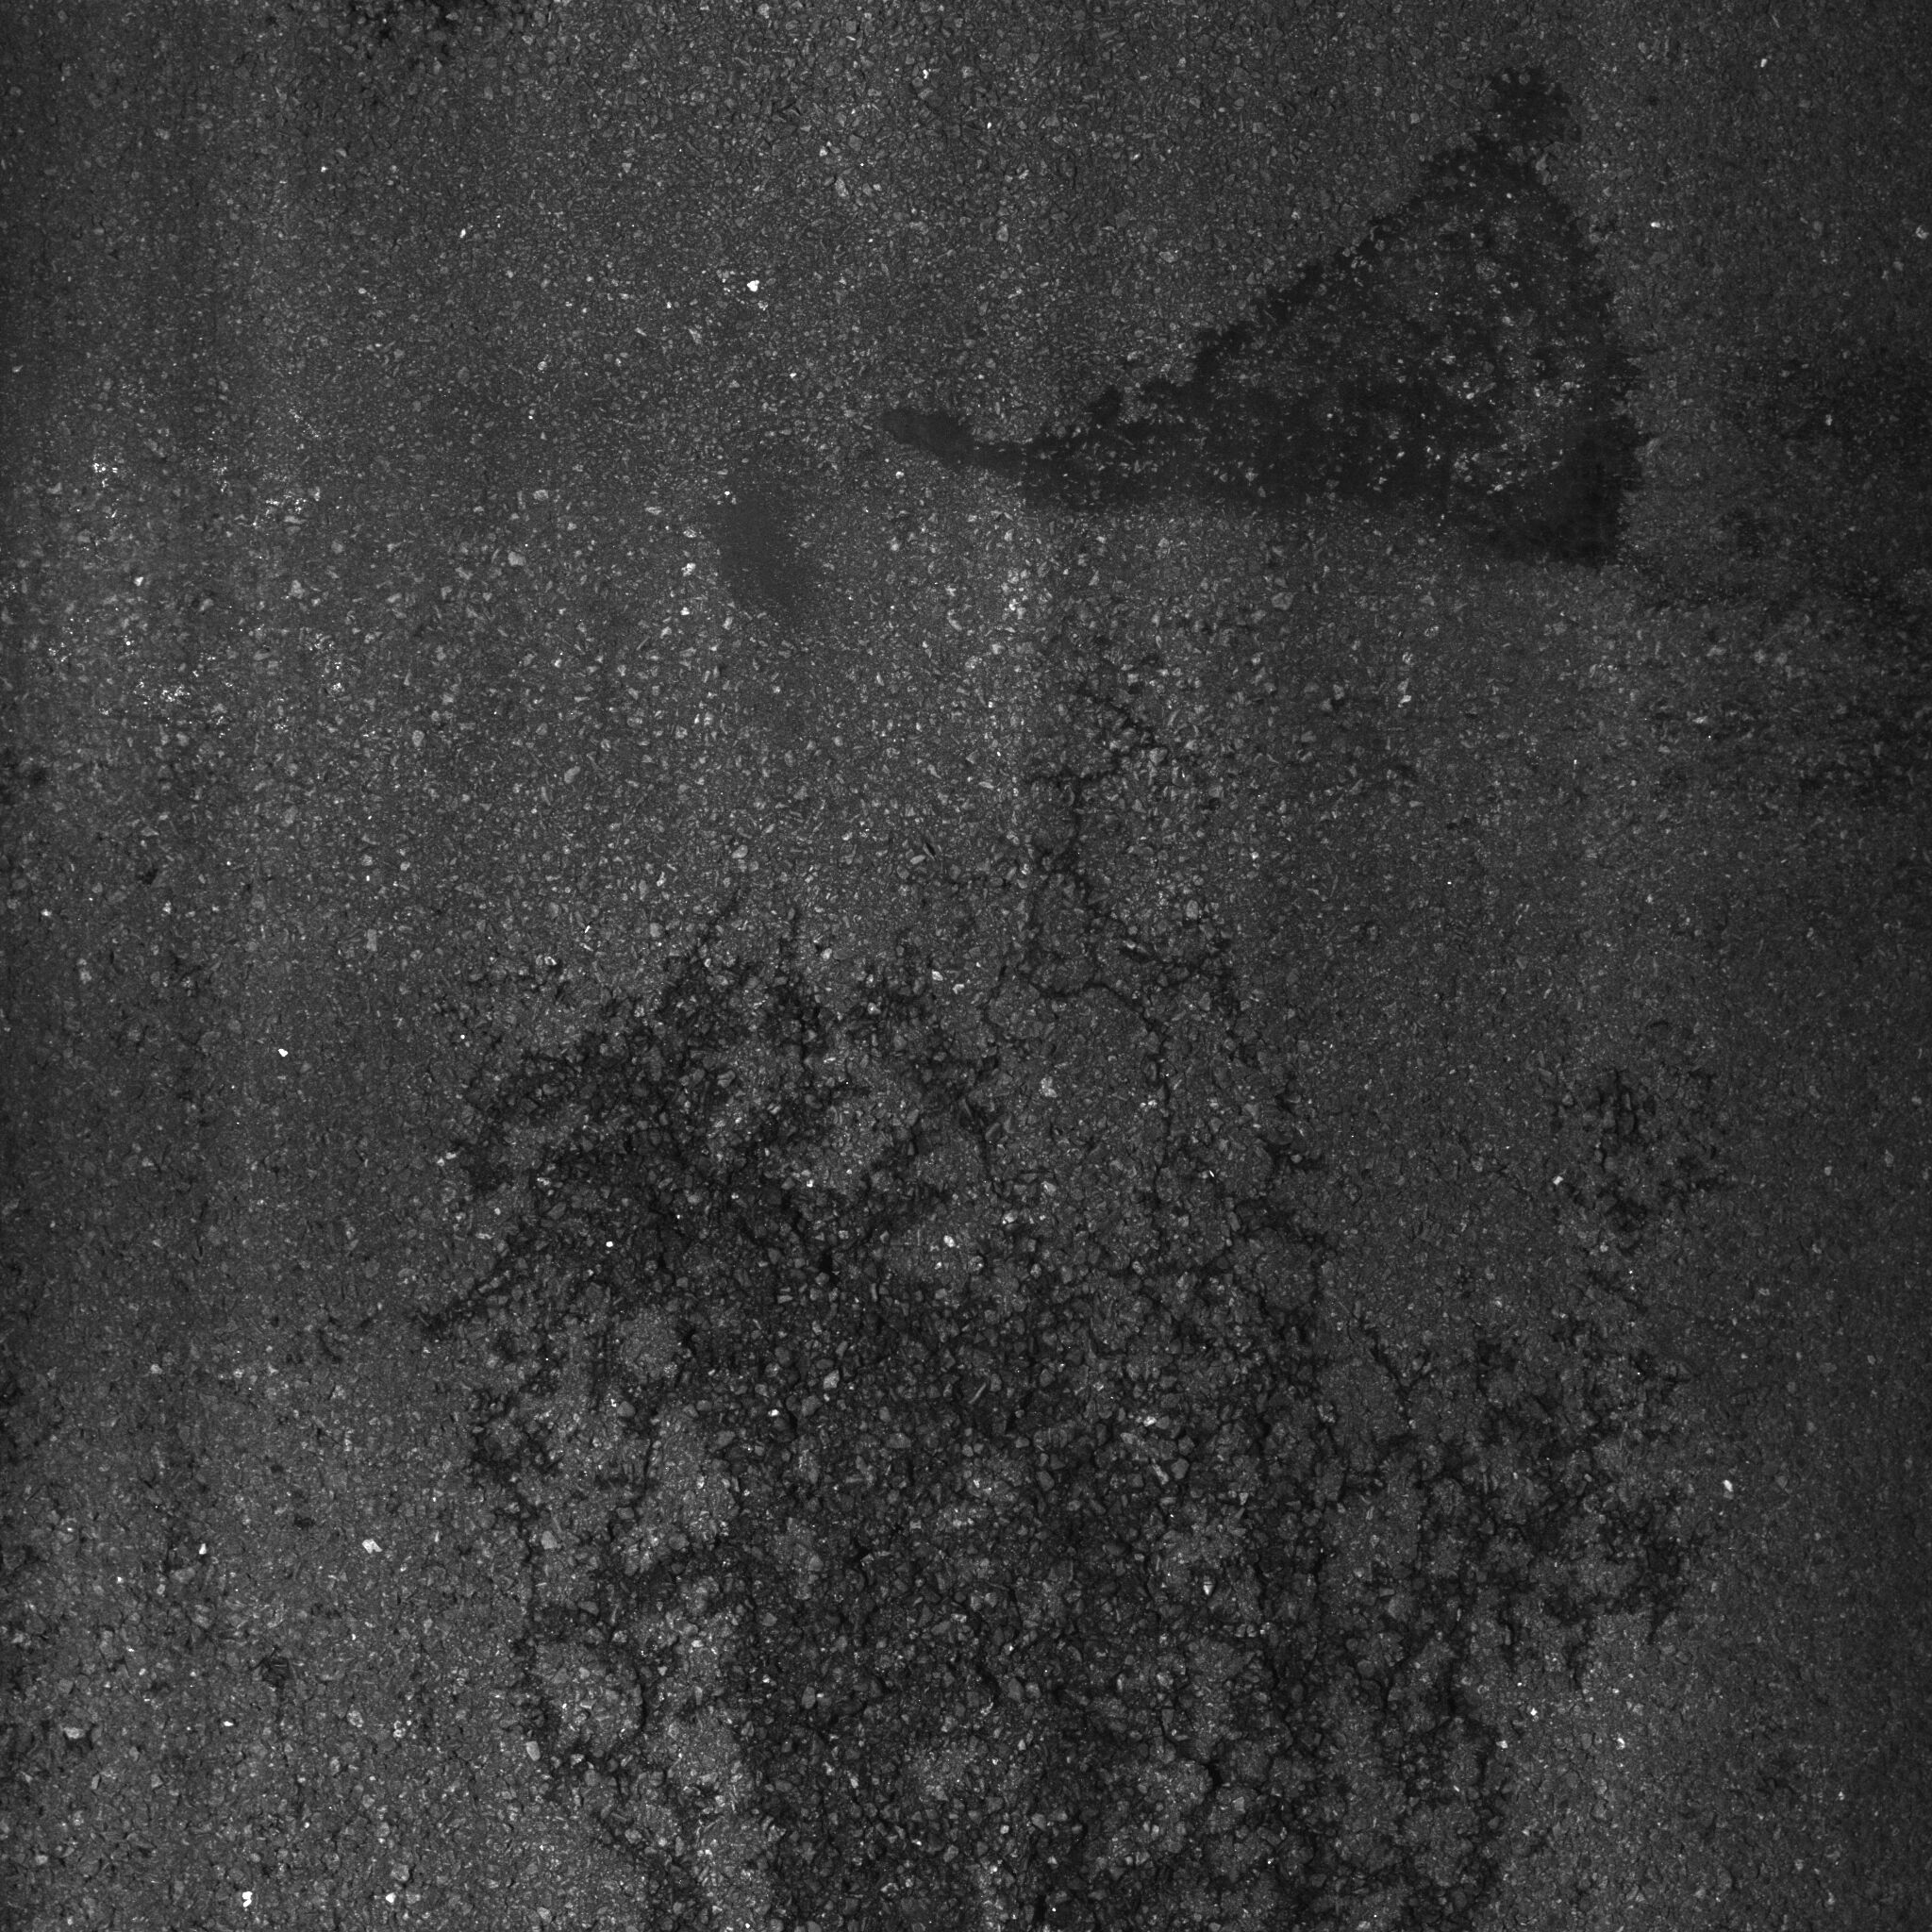alligator: (398, 628, 1714, 1932)
